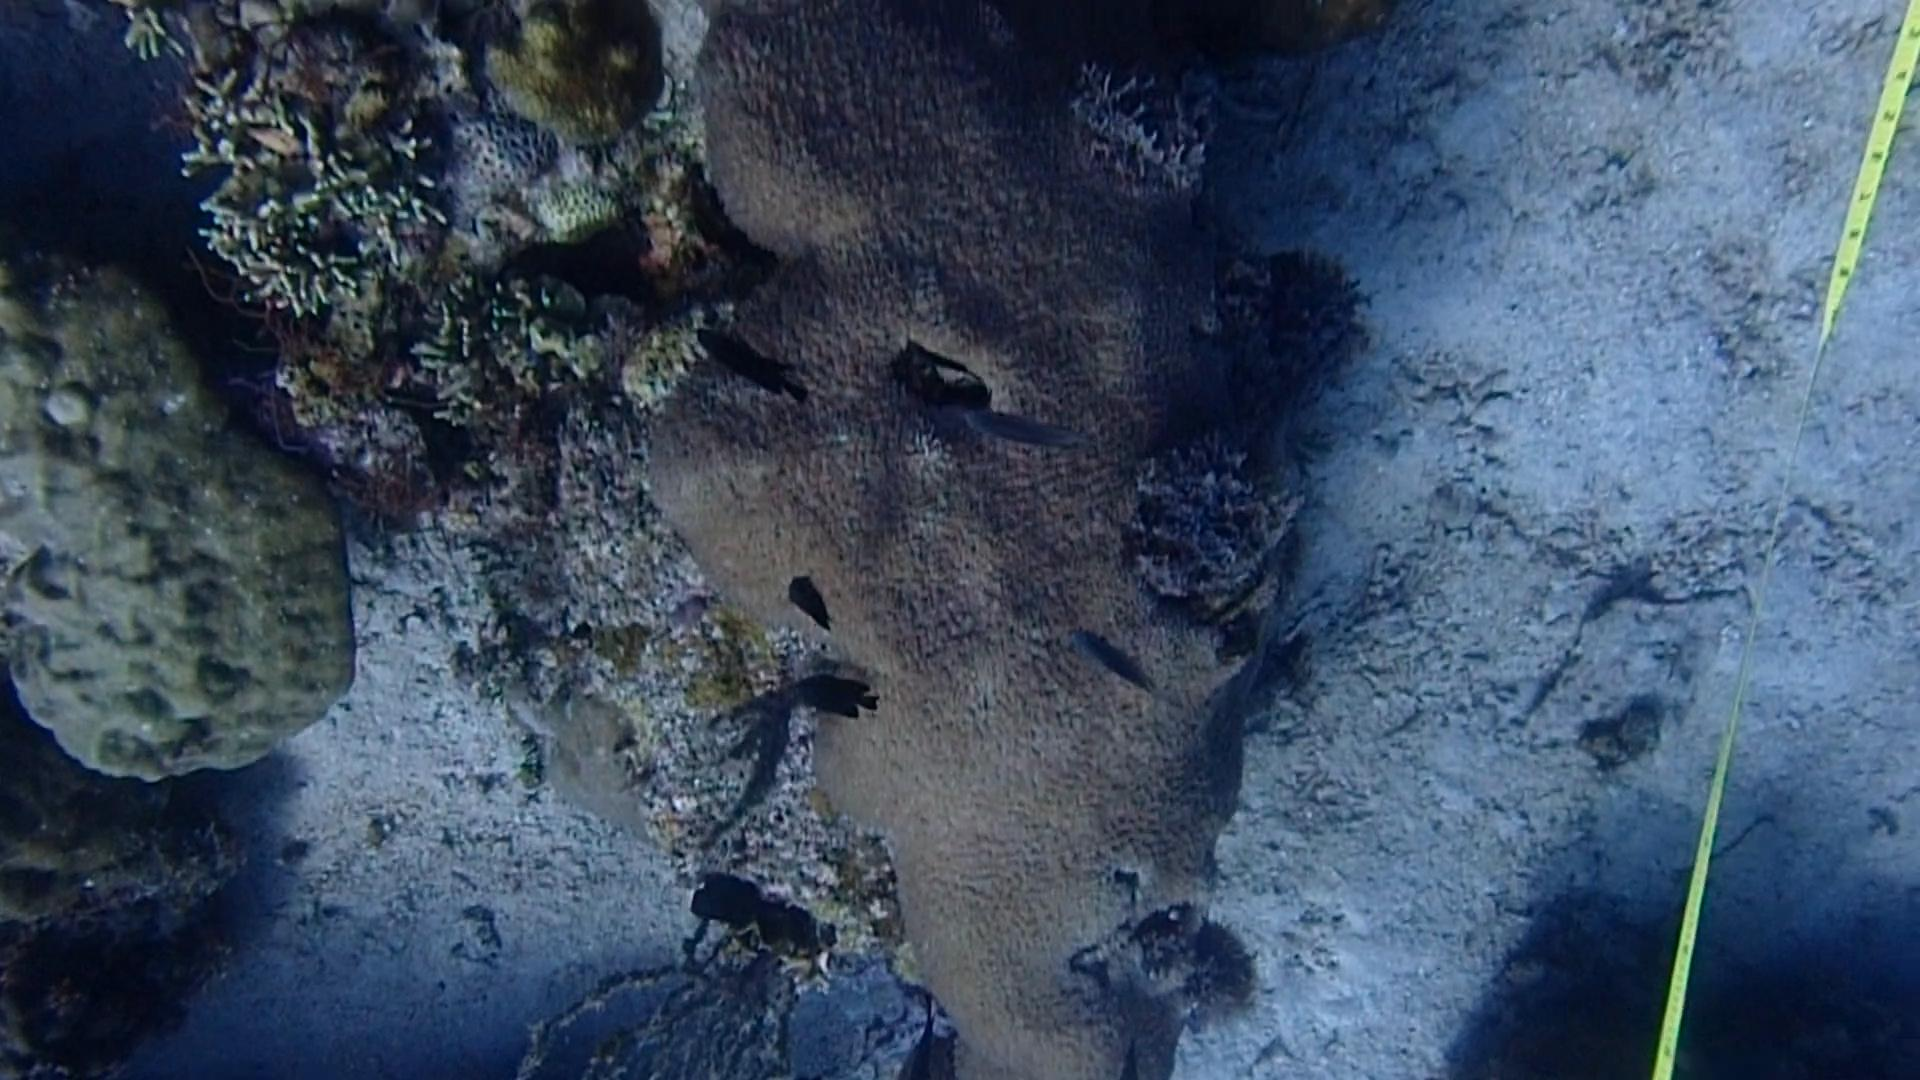Dark Fish: (692, 326, 810, 411), (773, 669, 897, 728), (771, 574, 849, 641)
Light Fish: (948, 398, 1104, 475), (1051, 609, 1153, 707)
